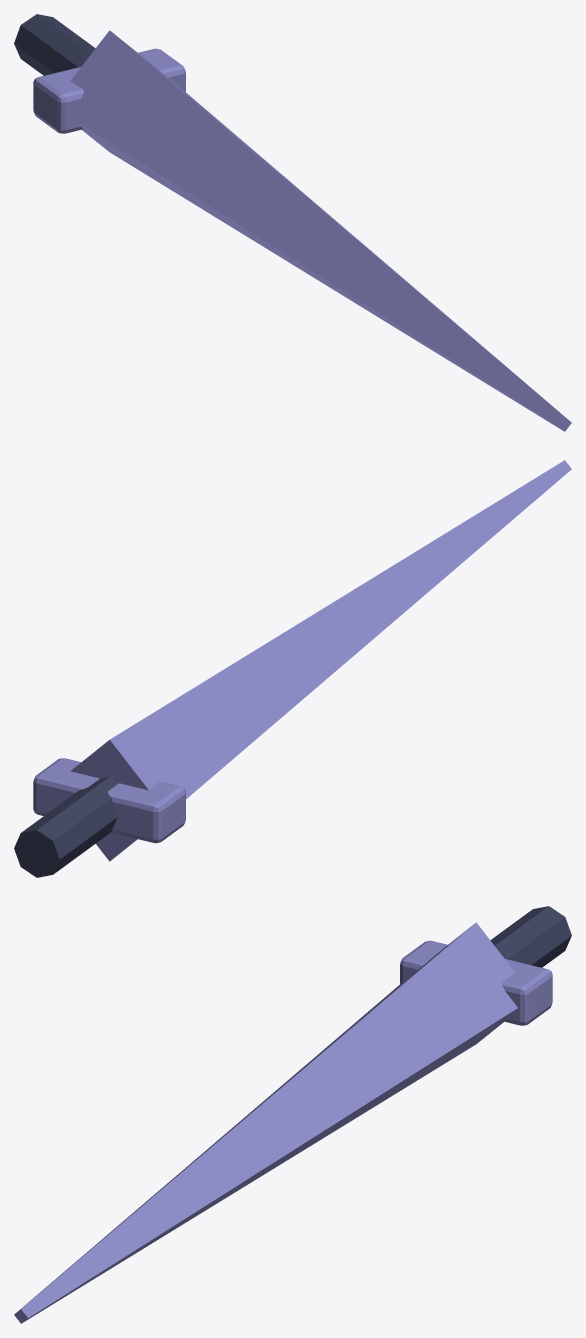
The model's file is SM_Yasuo_Scabbard.fbx.
The picture shows the model from 3 angles, top to bottom: view 1: azimuth 30°, elevation 25°; view 2: azimuth 150°, elevation 25°; view 3: azimuth 330°, elevation 25°; orthographic projection.
Parts seen in each view (by area): view 1: SM_Yasuo_Scabbard; view 2: SM_Yasuo_Scabbard; view 3: SM_Yasuo_Scabbard.
Boxes of the visible parts, bbox=[...] form: SM_Yasuo_Scabbard: bbox=[14, 14, 571, 431]; SM_Yasuo_Scabbard: bbox=[14, 460, 571, 877]; SM_Yasuo_Scabbard: bbox=[14, 906, 571, 1323].
Size of the model in its own units: 16.28 by 116 by 14.8.
